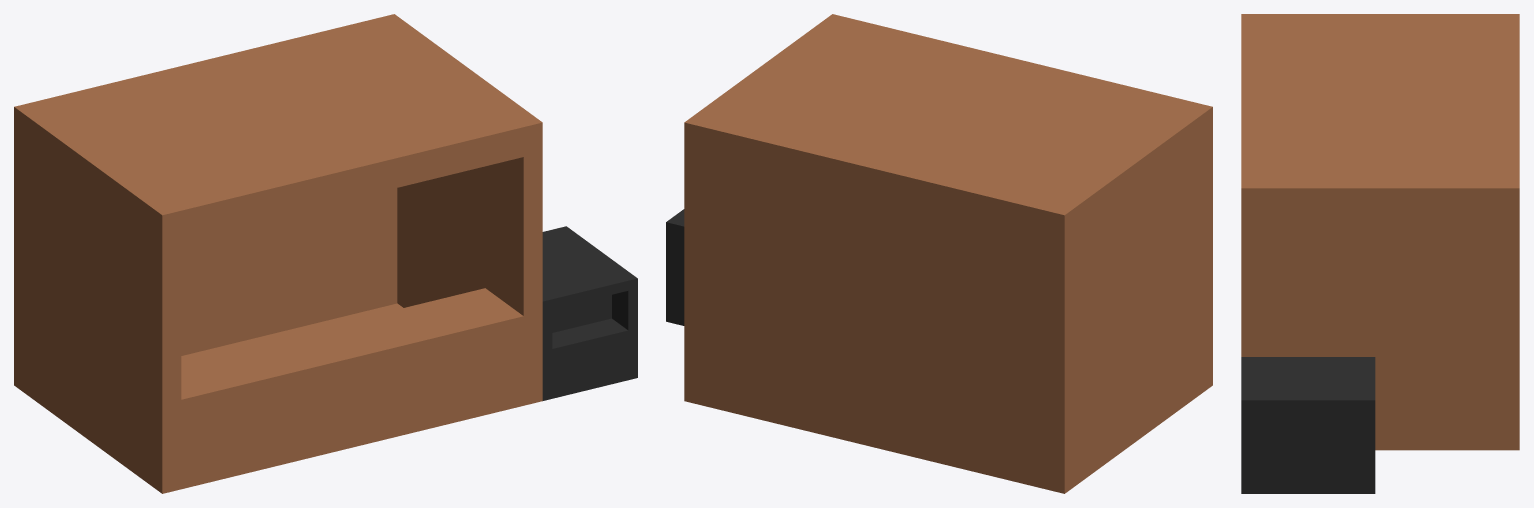
File: building.obj
3 renders of one model, left to right at view 1: azimuth 30°, elevation 25°; view 2: azimuth 150°, elevation 25°; view 3: azimuth 270°, elevation 25°, orthographic. The views are drawn at different scales.
Bounding box in the file's own units: 5 × 2.8 × 2.7.
1 material, 1 textured.
